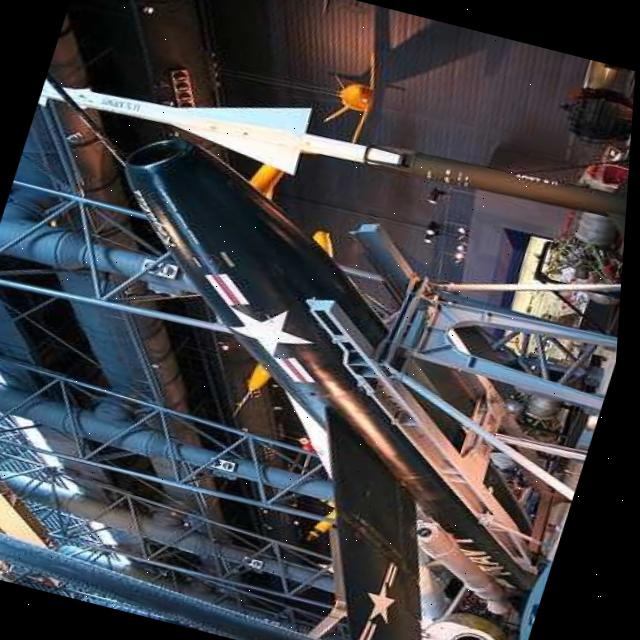missile: (0, 121, 634, 640)
